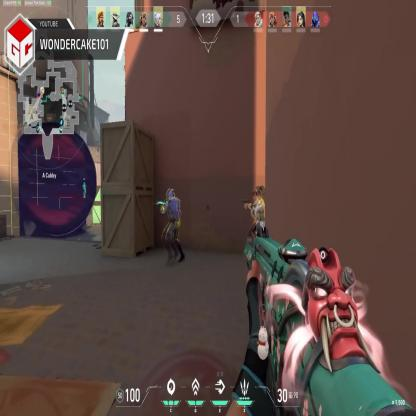enemy: (248, 185, 269, 276), (164, 186, 184, 264)
enemy_head: (167, 188, 174, 199), (255, 189, 261, 201)
